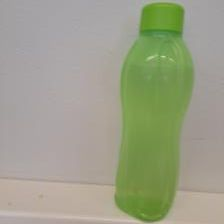bottle: (106, 2, 196, 221)
